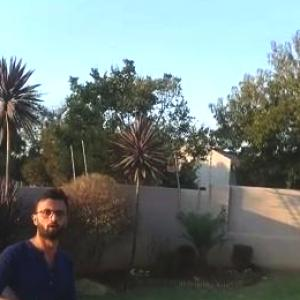follow: (0, 175, 82, 299)
